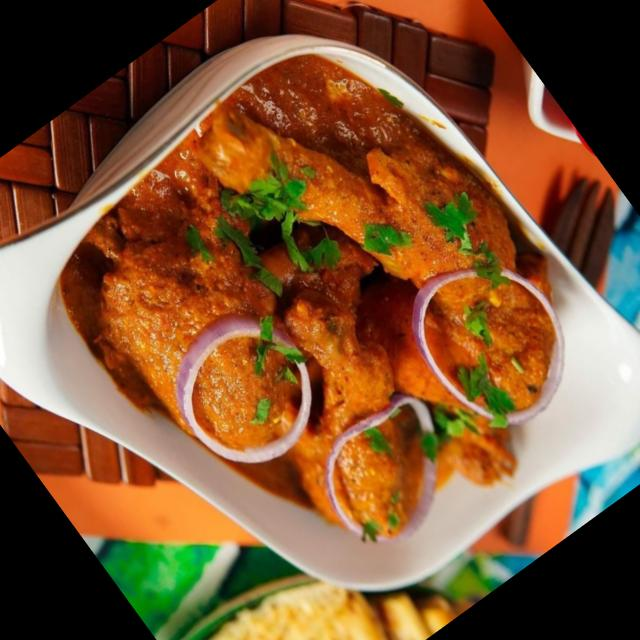chicken: (56, 45, 594, 602)
